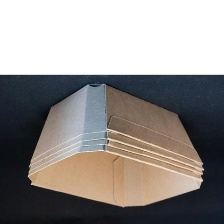book: (22, 78, 208, 213)
